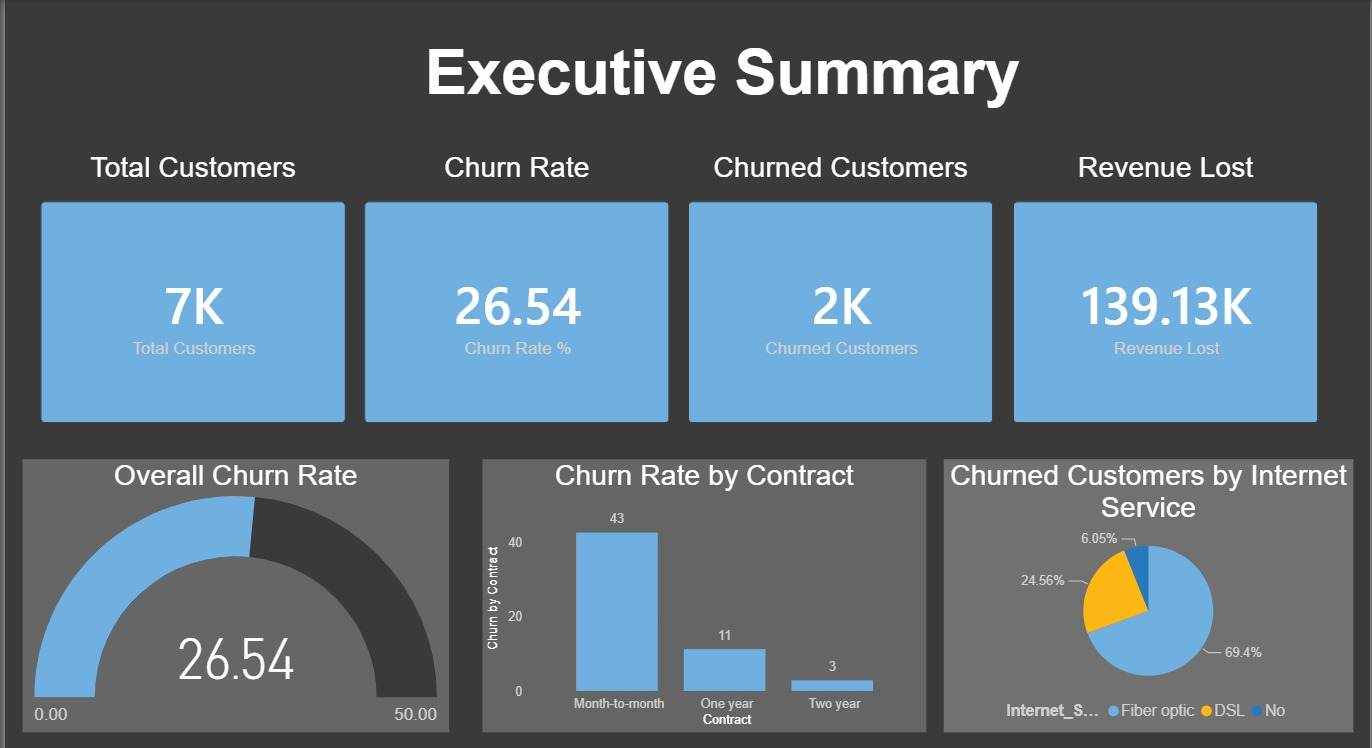

Layout of this report page (visuals, bound fields, positions):
{"tool":"powerbi","page":{"name":"Executive Summary","canvas":[1280,720],"ordinal":0},"visuals":[{"type":"cardVisual","title":"Total Customers","fields":{"Data":["telco_churn.Total Customers"]},"box":[16,144,320,272],"z":0},{"type":"cardVisual","title":"Churn Rate","fields":{"Data":["telco_churn.Churn Rate %"]},"box":[320,144,320,272],"z":1000},{"type":"cardVisual","title":"Churned Customers","fields":{"Data":["telco_churn.Churned Customers"]},"box":[624,144,320,272],"z":2000},{"type":"cardVisual","title":"Revenue Lost","fields":{"Data":["telco_churn.Revenue Lost"]},"box":[928,144,320,272],"z":3000},{"type":"gauge","title":"Overall Churn Rate","fields":{"Y":["telco_churn.Churn Rate %"]},"box":[16,432,400,256],"z":4000},{"type":"clusteredColumnChart","title":"Churn Rate by Contract","fields":{"Category":["telco_churn.Contract"],"Y":["telco_churn.Churn by Contract"]},"box":[448,432,416,256],"z":5000},{"type":"pieChart","title":"Churned Customers by Internet Service","fields":{"Category":["telco_churn.Internet_Service_Type"],"Y":["telco_churn.Churned Customers"]},"box":[880,432,384,256],"z":6000},{"type":"textbox","box":[160,32,1024,96],"z":7000}]}

Visuals, with their boxes on the page's 1280x720 design canvas (x1, y1, x2, y2). These are canvas units, not pixel positions in the 1372x748 screenshot, which may show the page scaled, cropped or inside an application window:
"Total Customers" cardVisual: 16/144/336/416
"Churn Rate" cardVisual: 320/144/640/416
"Churned Customers" cardVisual: 624/144/944/416
"Revenue Lost" cardVisual: 928/144/1248/416
"Overall Churn Rate" gauge: 16/432/416/688
"Churn Rate by Contract" clusteredColumnChart: 448/432/864/688
"Churned Customers by Internet Service" pieChart: 880/432/1264/688
textbox: 160/32/1184/128
